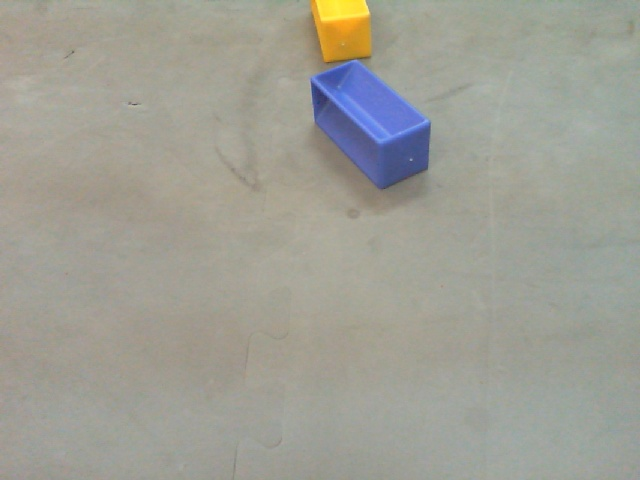BlueSample: (310, 58, 435, 192)
YellowSample: (309, 1, 377, 62)
